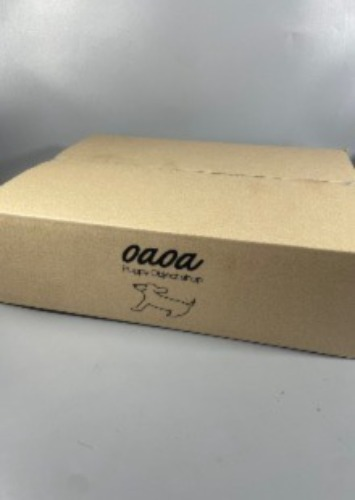undamaged: (0, 134, 354, 364)
